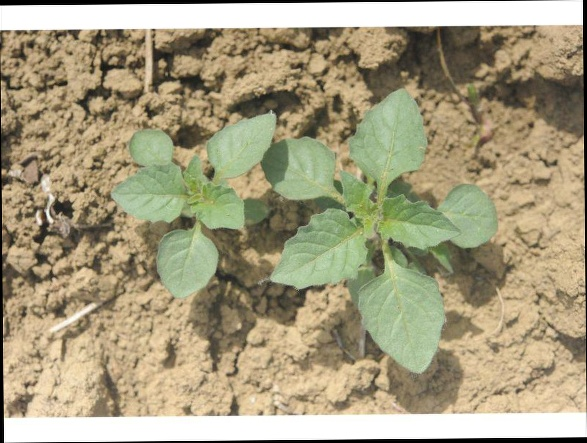nightshade: (263, 87, 498, 372), (110, 110, 277, 297)
